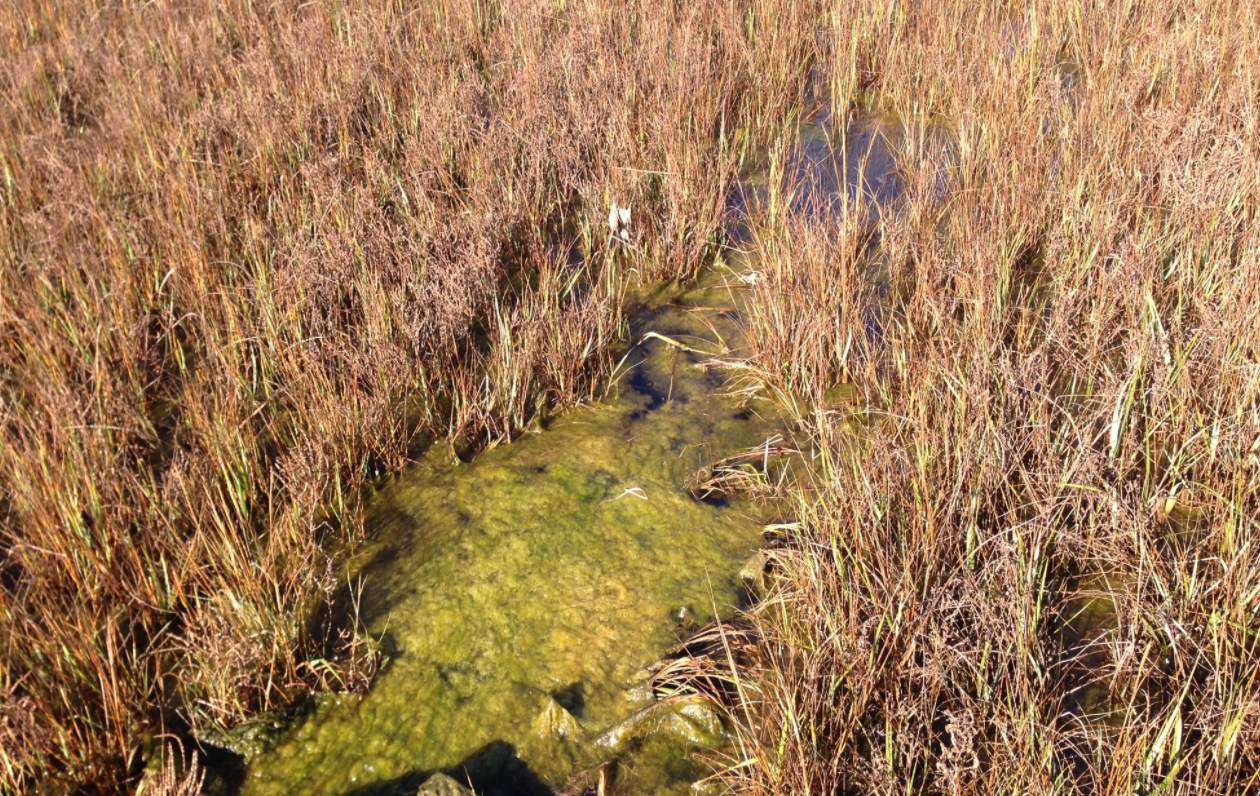water: (307, 256, 796, 781), (751, 101, 961, 240)
